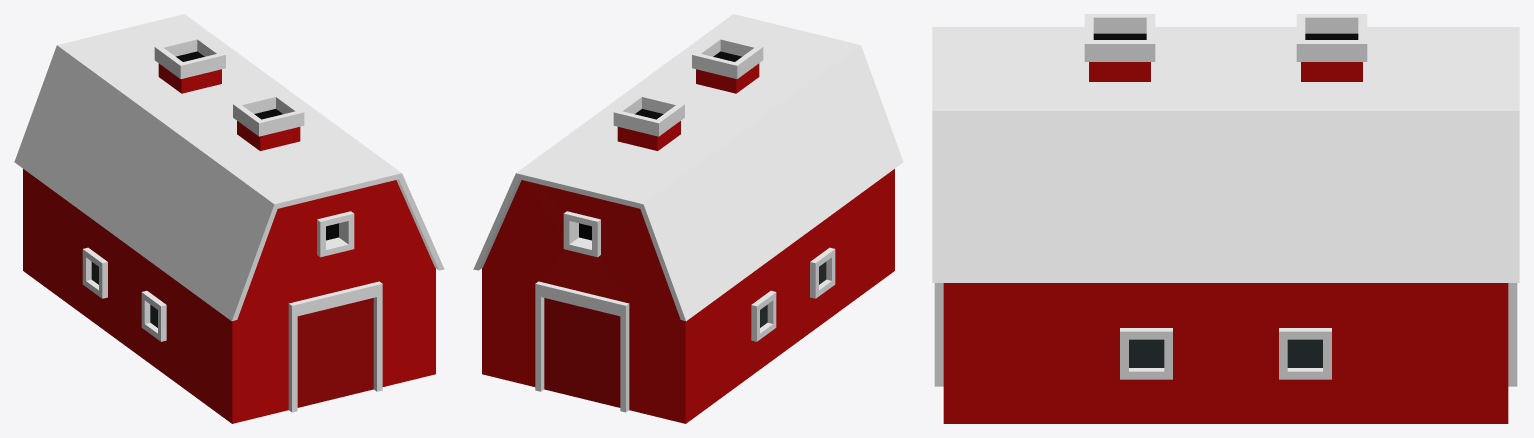
File: barn1.fbx
3 renders of one model, left to right at view 1: azimuth 30°, elevation 25°; view 2: azimuth 150°, elevation 25°; view 3: azimuth 270°, elevation 25°, orthographic. The views are drawn at different scales.
Visible parts, largest first — view 1: barn1; view 2: barn1; view 3: barn1.
Boxes of the visible parts, x1,y1,x2,y2 form: barn1: (14, 14, 444, 423); barn1: (473, 14, 903, 423); barn1: (932, 14, 1519, 423).
Size of the model in its own units: 667 by 720 by 1168.
